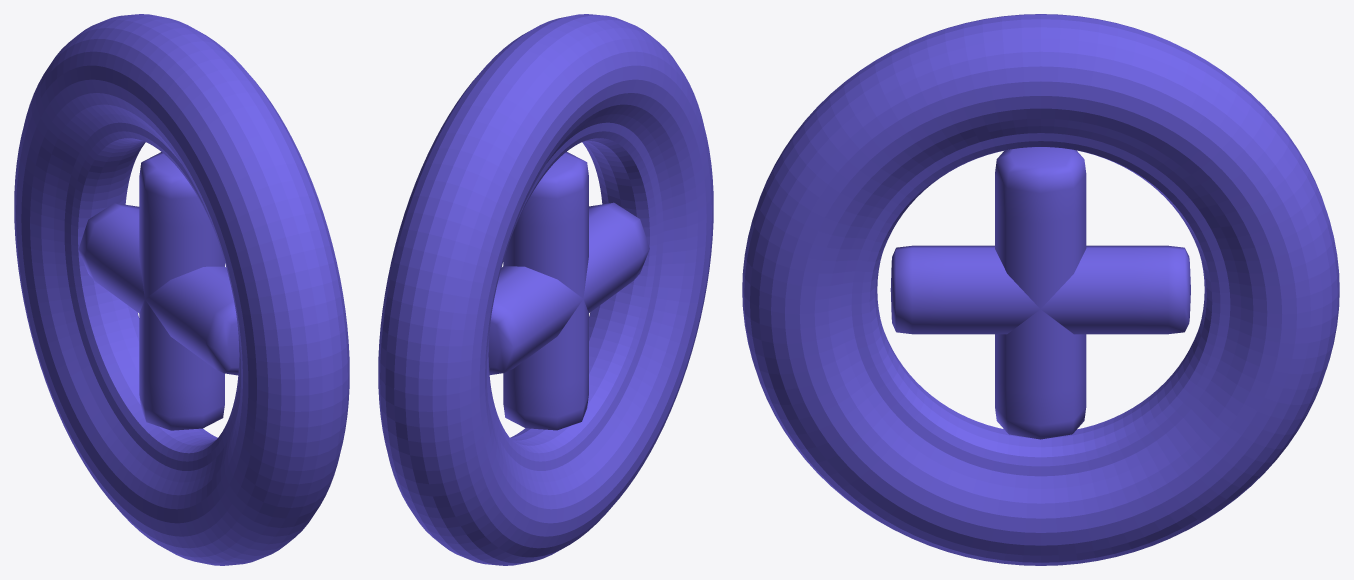
Rendered from positive.fbx.
The picture shows the model from 3 angles, left to right: view 1: azimuth 30°, elevation 25°; view 2: azimuth 150°, elevation 25°; view 3: azimuth 270°, elevation 25°; orthographic projection. The views are drawn at different scales.
Visible parts, largest first — view 1: Torus; view 2: Torus; view 3: Torus.
Part boxes in pixels (x1,y1,x2,y2): Torus: (14,14,349,565); Torus: (378,14,713,565); Torus: (742,14,1339,565).
Size of the model in its own units: 16.11 by 83.3 by 83.3.
